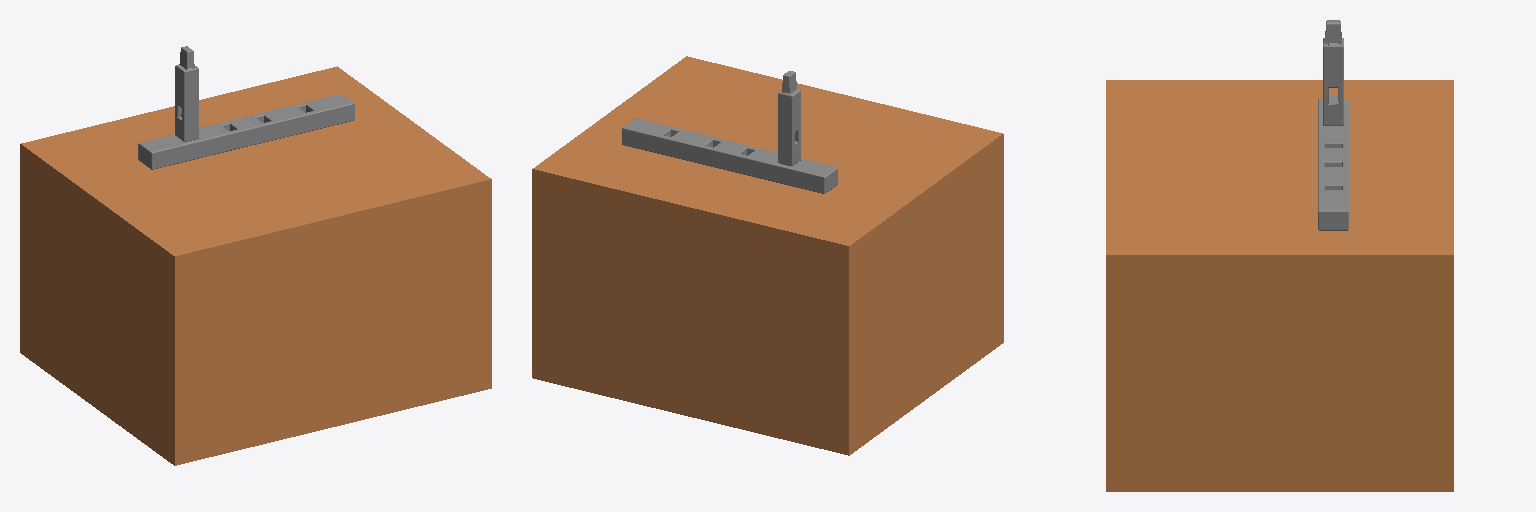
The robot description file, URDF, robot "table_beam_2x_0_scene_0096":
<?xml version="1.0"?>
<robot name="table_beam_2x_0_scene_0096">
  <link name="box">
    <visual>
      <material name="wood"><color rgba="0.82 0.56 0.35 1.0"/></material>
      <origin xyz="0 0 0"/>
      <geometry><box size="0.475 0.4 0.3"/></geometry>
    </visual>
    <collision>
      <origin xyz="0 0 0"/>
      <geometry><box size="0.475 0.4 0.3"/></geometry>
    </collision>
    <inertial>
      <mass value="500"/>
      <friction value="1.0"/>
      <inertia ixx="1000.0" ixy="0.0" ixz="0.0" iyy="1000.0" iyz="0.0" izz="1000.0"/>
    </inertial>
  </link>
  <link name="part_6_canonical">
    <visual>
      <origin xyz="0 0 0" rpy="0 0 0"/>
      <geometry><mesh filename="../../6/6_canonical.obj" scale="1 1 1"/></geometry>
      <material name="placed_0"><color rgba="0.6 0.6 0.6 1.0"/></material>
    </visual>
    <collision>
      <origin xyz="0 0 0" rpy="0 0 0"/>
      <geometry><mesh filename="../../6/6_canonical.obj" scale="1 1 1"/></geometry>
    </collision>
  </link>
  <joint name="part_6_canonical_joint" type="fixed">
    <parent link="box"/>
    <child link="part_6_canonical"/>
    <origin xyz="0.021298 0.061370 0.162666" rpy="0.000000 0.000000 0.000000"/>
  </joint>
  <link name="part_2_hull_0">
    <visual>
      <origin xyz="0 0 0" rpy="0 0 0"/>
      <geometry><mesh filename="../../2/coacd/decomp_0.obj" scale="1 1 1"/></geometry>
      <material name="placed_1"><color rgba="0.6 0.6 0.6 1.0"/></material>
    </visual>
    <collision>
      <origin xyz="0 0 0" rpy="0 0 0"/>
      <geometry><mesh filename="../../2/coacd/decomp_0.obj" scale="1 1 1"/></geometry>
    </collision>
  </link>
  <joint name="part_2_hull_0_joint" type="fixed">
    <parent link="box"/>
    <child link="part_2_hull_0"/>
    <origin xyz="-0.067629 0.061370 0.225384" rpy="0.000000 -1.570796 0.000000"/>
  </joint>
  <link name="part_2_hull_1">
    <visual>
      <origin xyz="0 0 0" rpy="0 0 0"/>
      <geometry><mesh filename="../../2/coacd/decomp_1.obj" scale="1 1 1"/></geometry>
      <material name="placed_2"><color rgba="0.6 0.6 0.6 1.0"/></material>
    </visual>
    <collision>
      <origin xyz="0 0 0" rpy="0 0 0"/>
      <geometry><mesh filename="../../2/coacd/decomp_1.obj" scale="1 1 1"/></geometry>
    </collision>
  </link>
  <joint name="part_2_hull_1_joint" type="fixed">
    <parent link="box"/>
    <child link="part_2_hull_1"/>
    <origin xyz="-0.067629 0.061370 0.225384" rpy="0.000000 -1.570796 0.000000"/>
  </joint>
  <link name="part_2_hull_2">
    <visual>
      <origin xyz="0 0 0" rpy="0 0 0"/>
      <geometry><mesh filename="../../2/coacd/decomp_10.obj" scale="1 1 1"/></geometry>
      <material name="placed_3"><color rgba="0.6 0.6 0.6 1.0"/></material>
    </visual>
    <collision>
      <origin xyz="0 0 0" rpy="0 0 0"/>
      <geometry><mesh filename="../../2/coacd/decomp_10.obj" scale="1 1 1"/></geometry>
    </collision>
  </link>
  <joint name="part_2_hull_2_joint" type="fixed">
    <parent link="box"/>
    <child link="part_2_hull_2"/>
    <origin xyz="-0.067629 0.061370 0.225384" rpy="0.000000 -1.570796 0.000000"/>
  </joint>
  <link name="part_2_hull_3">
    <visual>
      <origin xyz="0 0 0" rpy="0 0 0"/>
      <geometry><mesh filename="../../2/coacd/decomp_11.obj" scale="1 1 1"/></geometry>
      <material name="placed_4"><color rgba="0.6 0.6 0.6 1.0"/></material>
    </visual>
    <collision>
      <origin xyz="0 0 0" rpy="0 0 0"/>
      <geometry><mesh filename="../../2/coacd/decomp_11.obj" scale="1 1 1"/></geometry>
    </collision>
  </link>
  <joint name="part_2_hull_3_joint" type="fixed">
    <parent link="box"/>
    <child link="part_2_hull_3"/>
    <origin xyz="-0.067629 0.061370 0.225384" rpy="0.000000 -1.570796 0.000000"/>
  </joint>
  <link name="part_2_hull_4">
    <visual>
      <origin xyz="0 0 0" rpy="0 0 0"/>
      <geometry><mesh filename="../../2/coacd/decomp_12.obj" scale="1 1 1"/></geometry>
      <material name="placed_5"><color rgba="0.6 0.6 0.6 1.0"/></material>
    </visual>
    <collision>
      <origin xyz="0 0 0" rpy="0 0 0"/>
      <geometry><mesh filename="../../2/coacd/decomp_12.obj" scale="1 1 1"/></geometry>
    </collision>
  </link>
  <joint name="part_2_hull_4_joint" type="fixed">
    <parent link="box"/>
    <child link="part_2_hull_4"/>
    <origin xyz="-0.067629 0.061370 0.225384" rpy="0.000000 -1.570796 0.000000"/>
  </joint>
  <link name="part_2_hull_5">
    <visual>
      <origin xyz="0 0 0" rpy="0 0 0"/>
      <geometry><mesh filename="../../2/coacd/decomp_13.obj" scale="1 1 1"/></geometry>
      <material name="placed_6"><color rgba="0.6 0.6 0.6 1.0"/></material>
    </visual>
    <collision>
      <origin xyz="0 0 0" rpy="0 0 0"/>
      <geometry><mesh filename="../../2/coacd/decomp_13.obj" scale="1 1 1"/></geometry>
    </collision>
  </link>
  <joint name="part_2_hull_5_joint" type="fixed">
    <parent link="box"/>
    <child link="part_2_hull_5"/>
    <origin xyz="-0.067629 0.061370 0.225384" rpy="0.000000 -1.570796 0.000000"/>
  </joint>
  <link name="part_2_hull_6">
    <visual>
      <origin xyz="0 0 0" rpy="0 0 0"/>
      <geometry><mesh filename="../../2/coacd/decomp_14.obj" scale="1 1 1"/></geometry>
      <material name="placed_7"><color rgba="0.6 0.6 0.6 1.0"/></material>
    </visual>
    <collision>
      <origin xyz="0 0 0" rpy="0 0 0"/>
      <geometry><mesh filename="../../2/coacd/decomp_14.obj" scale="1 1 1"/></geometry>
    </collision>
  </link>
  <joint name="part_2_hull_6_joint" type="fixed">
    <parent link="box"/>
    <child link="part_2_hull_6"/>
    <origin xyz="-0.067629 0.061370 0.225384" rpy="0.000000 -1.570796 0.000000"/>
  </joint>
  <link name="part_2_hull_7">
    <visual>
      <origin xyz="0 0 0" rpy="0 0 0"/>
      <geometry><mesh filename="../../2/coacd/decomp_15.obj" scale="1 1 1"/></geometry>
      <material name="placed_8"><color rgba="0.6 0.6 0.6 1.0"/></material>
    </visual>
    <collision>
      <origin xyz="0 0 0" rpy="0 0 0"/>
      <geometry><mesh filename="../../2/coacd/decomp_15.obj" scale="1 1 1"/></geometry>
    </collision>
  </link>
  <joint name="part_2_hull_7_joint" type="fixed">
    <parent link="box"/>
    <child link="part_2_hull_7"/>
    <origin xyz="-0.067629 0.061370 0.225384" rpy="0.000000 -1.570796 0.000000"/>
  </joint>
  <link name="part_2_hull_8">
    <visual>
      <origin xyz="0 0 0" rpy="0 0 0"/>
      <geometry><mesh filename="../../2/coacd/decomp_2.obj" scale="1 1 1"/></geometry>
      <material name="placed_9"><color rgba="0.6 0.6 0.6 1.0"/></material>
    </visual>
    <collision>
      <origin xyz="0 0 0" rpy="0 0 0"/>
      <geometry><mesh filename="../../2/coacd/decomp_2.obj" scale="1 1 1"/></geometry>
    </collision>
  </link>
  <joint name="part_2_hull_8_joint" type="fixed">
    <parent link="box"/>
    <child link="part_2_hull_8"/>
    <origin xyz="-0.067629 0.061370 0.225384" rpy="0.000000 -1.570796 0.000000"/>
  </joint>
  <link name="part_2_hull_9">
    <visual>
      <origin xyz="0 0 0" rpy="0 0 0"/>
      <geometry><mesh filename="../../2/coacd/decomp_3.obj" scale="1 1 1"/></geometry>
      <material name="placed_10"><color rgba="0.6 0.6 0.6 1.0"/></material>
    </visual>
    <collision>
      <origin xyz="0 0 0" rpy="0 0 0"/>
      <geometry><mesh filename="../../2/coacd/decomp_3.obj" scale="1 1 1"/></geometry>
    </collision>
  </link>
  <joint name="part_2_hull_9_joint" type="fixed">
    <parent link="box"/>
    <child link="part_2_hull_9"/>
    <origin xyz="-0.067629 0.061370 0.225384" rpy="0.000000 -1.570796 0.000000"/>
  </joint>
  <link name="part_2_hull_10">
    <visual>
      <origin xyz="0 0 0" rpy="0 0 0"/>
      <geometry><mesh filename="../../2/coacd/decomp_4.obj" scale="1 1 1"/></geometry>
      <material name="placed_11"><color rgba="0.6 0.6 0.6 1.0"/></material>
    </visual>
    <collision>
      <origin xyz="0 0 0" rpy="0 0 0"/>
      <geometry><mesh filename="../../2/coacd/decomp_4.obj" scale="1 1 1"/></geometry>
    </collision>
  </link>
  <joint name="part_2_hull_10_joint" type="fixed">
    <parent link="box"/>
    <child link="part_2_hull_10"/>
    <origin xyz="-0.067629 0.061370 0.225384" rpy="0.000000 -1.570796 0.000000"/>
  </joint>
  <link name="part_2_hull_11">
    <visual>
      <origin xyz="0 0 0" rpy="0 0 0"/>
      <geometry><mesh filename="../../2/coacd/decomp_5.obj" scale="1 1 1"/></geometry>
      <material name="placed_12"><color rgba="0.6 0.6 0.6 1.0"/></material>
    </visual>
    <collision>
      <origin xyz="0 0 0" rpy="0 0 0"/>
      <geometry><mesh filename="../../2/coacd/decomp_5.obj" scale="1 1 1"/></geometry>
    </collision>
  </link>
  <joint name="part_2_hull_11_joint" type="fixed">
    <parent link="box"/>
    <child link="part_2_hull_11"/>
    <origin xyz="-0.067629 0.061370 0.225384" rpy="0.000000 -1.570796 0.000000"/>
  </joint>
  <link name="part_2_hull_12">
    <visual>
      <origin xyz="0 0 0" rpy="0 0 0"/>
      <geometry><mesh filename="../../2/coacd/decomp_6.obj" scale="1 1 1"/></geometry>
      <material name="placed_13"><color rgba="0.6 0.6 0.6 1.0"/></material>
    </visual>
    <collision>
      <origin xyz="0 0 0" rpy="0 0 0"/>
      <geometry><mesh filename="../../2/coacd/decomp_6.obj" scale="1 1 1"/></geometry>
    </collision>
  </link>
  <joint name="part_2_hull_12_joint" type="fixed">
    <parent link="box"/>
    <child link="part_2_hull_12"/>
    <origin xyz="-0.067629 0.061370 0.225384" rpy="0.000000 -1.570796 0.000000"/>
  </joint>
  <link name="part_2_hull_13">
    <visual>
      <origin xyz="0 0 0" rpy="0 0 0"/>
      <geometry><mesh filename="../../2/coacd/decomp_7.obj" scale="1 1 1"/></geometry>
      <material name="placed_14"><color rgba="0.6 0.6 0.6 1.0"/></material>
    </visual>
    <collision>
      <origin xyz="0 0 0" rpy="0 0 0"/>
      <geometry><mesh filename="../../2/coacd/decomp_7.obj" scale="1 1 1"/></geometry>
    </collision>
  </link>
  <joint name="part_2_hull_13_joint" type="fixed">
    <parent link="box"/>
    <child link="part_2_hull_13"/>
    <origin xyz="-0.067629 0.061370 0.225384" rpy="0.000000 -1.570796 0.000000"/>
  </joint>
  <link name="part_2_hull_14">
    <visual>
      <origin xyz="0 0 0" rpy="0 0 0"/>
      <geometry><mesh filename="../../2/coacd/decomp_8.obj" scale="1 1 1"/></geometry>
      <material name="placed_15"><color rgba="0.6 0.6 0.6 1.0"/></material>
    </visual>
    <collision>
      <origin xyz="0 0 0" rpy="0 0 0"/>
      <geometry><mesh filename="../../2/coacd/decomp_8.obj" scale="1 1 1"/></geometry>
    </collision>
  </link>
  <joint name="part_2_hull_14_joint" type="fixed">
    <parent link="box"/>
    <child link="part_2_hull_14"/>
    <origin xyz="-0.067629 0.061370 0.225384" rpy="0.000000 -1.570796 0.000000"/>
  </joint>
  <link name="part_2_hull_15">
    <visual>
      <origin xyz="0 0 0" rpy="0 0 0"/>
      <geometry><mesh filename="../../2/coacd/decomp_9.obj" scale="1 1 1"/></geometry>
      <material name="placed_16"><color rgba="0.6 0.6 0.6 1.0"/></material>
    </visual>
    <collision>
      <origin xyz="0 0 0" rpy="0 0 0"/>
      <geometry><mesh filename="../../2/coacd/decomp_9.obj" scale="1 1 1"/></geometry>
    </collision>
  </link>
  <joint name="part_2_hull_15_joint" type="fixed">
    <parent link="box"/>
    <child link="part_2_hull_15"/>
    <origin xyz="-0.067629 0.061370 0.225384" rpy="0.000000 -1.570796 0.000000"/>
  </joint>
</robot>

--- What the picture shows (computed from the rendered views, not written in the file) ---
The picture shows the robot from 3 angles, left to right: view 1: azimuth 30°, elevation 25°; view 2: azimuth 150°, elevation 25°; view 3: azimuth 270°, elevation 25°; orthographic projection.
Robot: table_beam_2x_0_scene_0096 — 18 links, 17 joints (17 fixed); root link box; default pose: every joint at zero.
Links seen in each view (by area): view 1: box, part_6_canonical, part_2_hull_1; view 2: box, part_6_canonical; view 3: box, part_6_canonical.
Link boxes in pixels (x1,y1,x2,y2): box: [20, 66, 491, 465]; part_6_canonical: [138, 94, 354, 169]; part_2_hull_1: [175, 65, 187, 109]; box: [532, 56, 1003, 455]; part_6_canonical: [622, 118, 837, 193]; box: [1106, 80, 1453, 491]; part_6_canonical: [1318, 99, 1348, 230].
Bounding box of the posed robot: 0.475 × 0.4 × 0.4524 m (x, y, z).
Meshes: 17 distinct files referenced, 17 mesh visuals loaded (17 OBJ).
